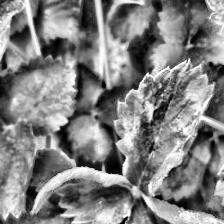Powdery Mildew Leaf: (113, 59, 215, 197), (30, 165, 138, 224), (125, 191, 224, 224)
